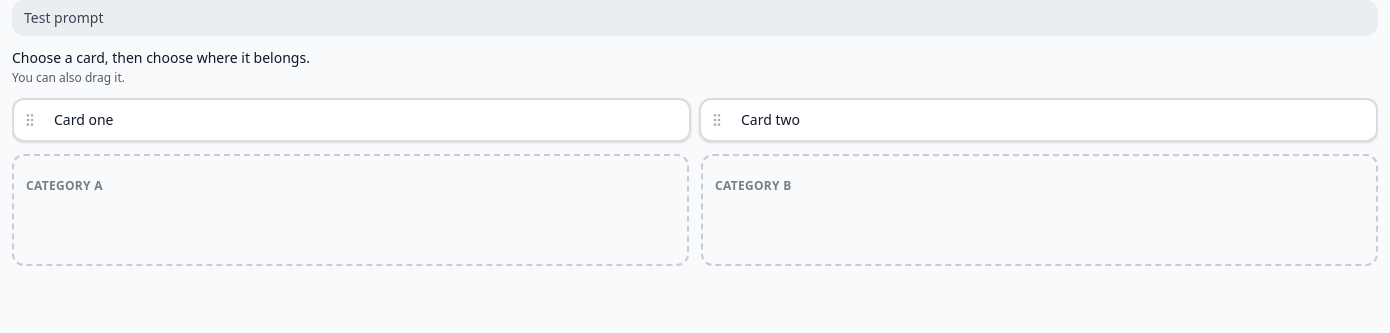
Test: DragClassifyGame click-first interaction › selects a card then places it in the correct zone
Click the button "Card one": [84, 120] box [46,100,689,140]
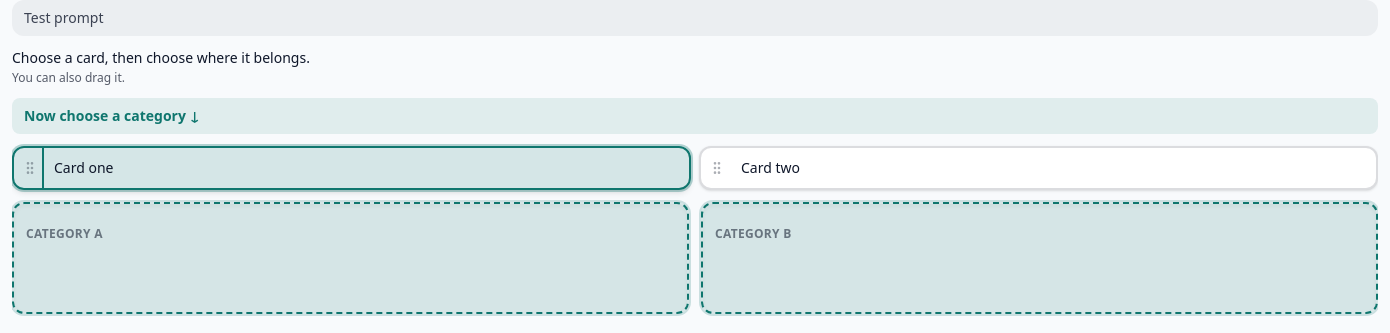
Expected: the text "Now choose a category ↓" is shown, [12,98,1378,134]
Click the button with test id "drop-zone-a": [64, 234] box [12,202,689,314]
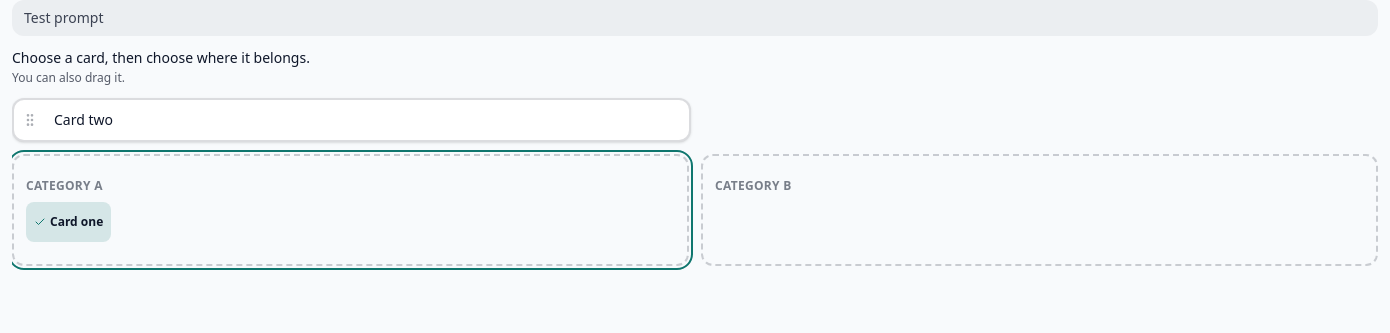
Expected: the element with test id "placed-item1" is shown, [26,202,111,242]
Expected: the element with test id "drag-card-item1" is gone
